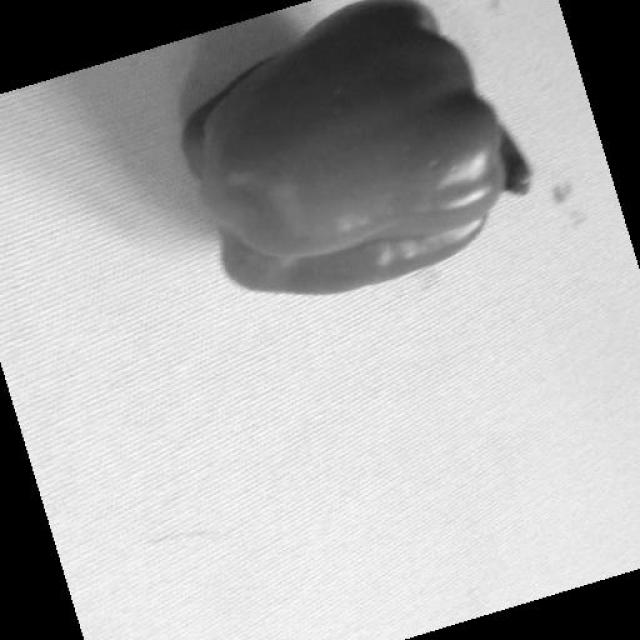Fresh_Capsicum: (185, 12, 543, 328)
